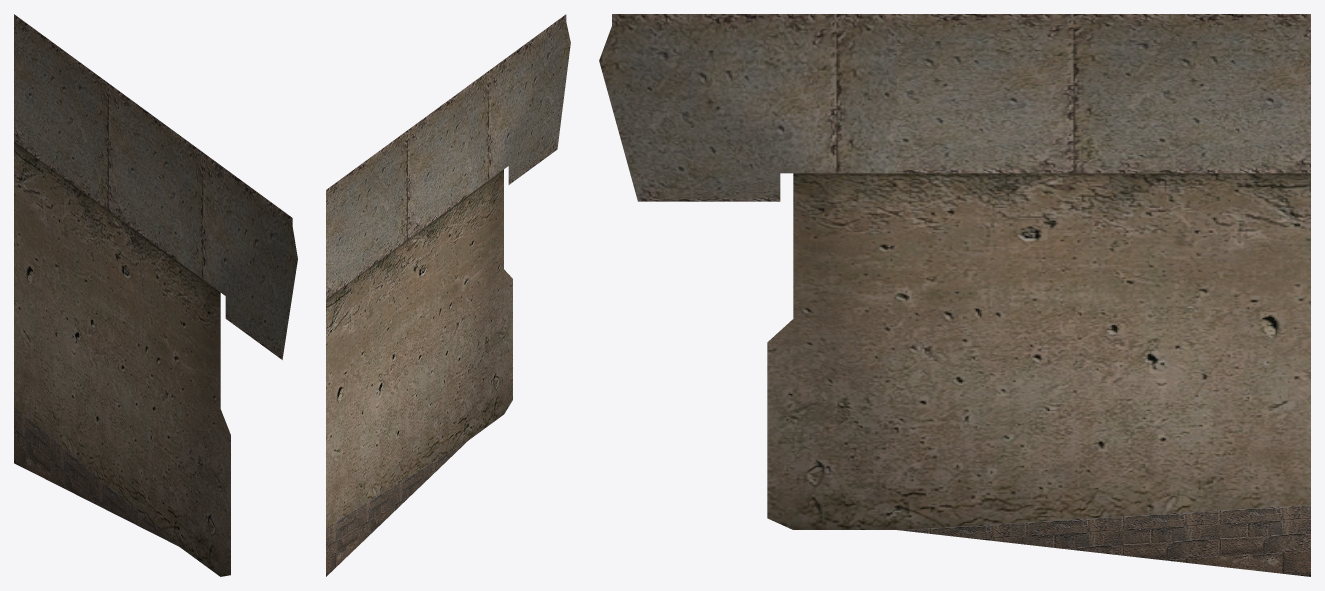
The model's file is M11Z1_TownWall01_2.glb.
The picture shows the model from 3 angles, left to right: view 1: azimuth 30°, elevation 25°; view 2: azimuth 150°, elevation 25°; view 3: azimuth 270°, elevation 25°; orthographic projection. The views are drawn at different scales.
Parts seen in each view (by area): view 1: M11Z1_TOWNWALL01_2; view 2: M11Z1_TOWNWALL01_2; view 3: M11Z1_TOWNWALL01_2.
Boxes of the visible parts, x1=… form: M11Z1_TOWNWALL01_2: x1=14, y1=14, x2=297, y2=576; M11Z1_TOWNWALL01_2: x1=326, y1=14, x2=570, y2=576; M11Z1_TOWNWALL01_2: x1=599, y1=14, x2=1310, y2=576.
Bounding box in the file's own units: 0 × 12 × 13.75.
3 materials, 3 textured.
